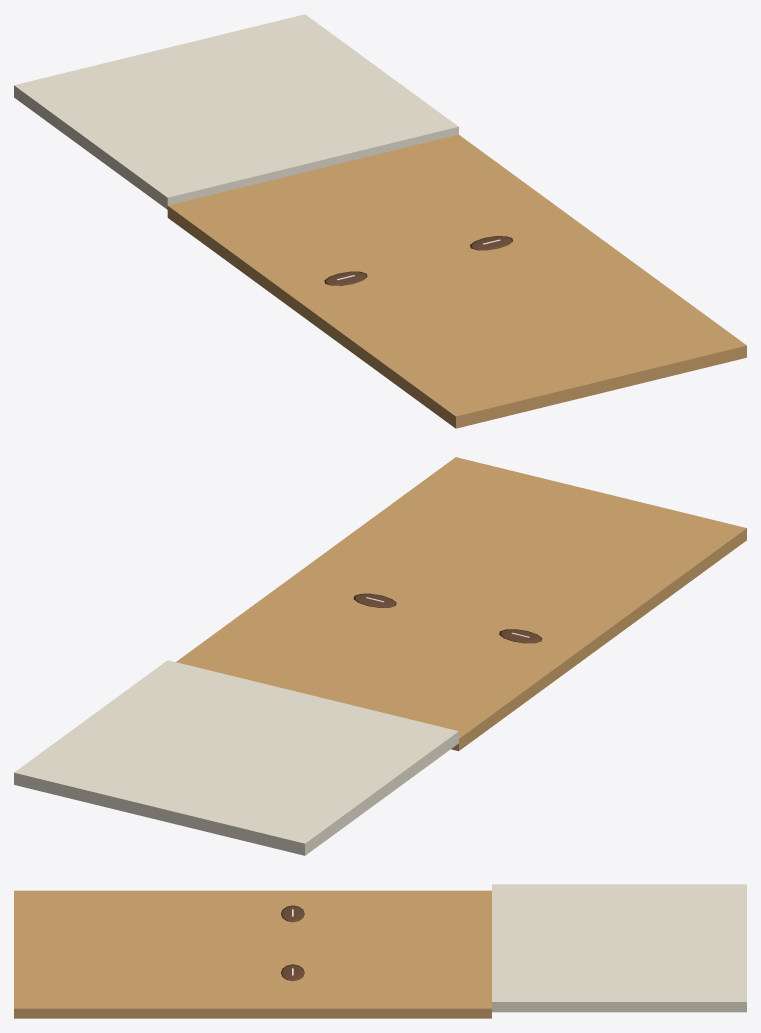
The model's file is orb4_ground_7m.glb.
The picture shows the model from 3 angles, top to bottom: view 1: azimuth 30°, elevation 25°; view 2: azimuth 150°, elevation 25°; view 3: azimuth 270°, elevation 25°; orthographic projection. The views are drawn at different scales.
Parts seen in each view (by area): view 1: orb4_ground_7m__orb3-brushed-brass, orb4_ground_7m__orb3-ivory-ceramic, orb4_ground_7m__orb3-roasted-coffee; view 2: orb4_ground_7m__orb3-brushed-brass, orb4_ground_7m__orb3-ivory-ceramic, orb4_ground_7m__orb3-roasted-coffee; view 3: orb4_ground_7m__orb3-brushed-brass, orb4_ground_7m__orb3-ivory-ceramic, orb4_ground_7m__orb3-roasted-coffee.
Part boxes in pixels (x1,y1,x2,y2): orb4_ground_7m__orb3-brushed-brass: (167,134,746,428); orb4_ground_7m__orb3-ivory-ceramic: (14,14,458,209); orb4_ground_7m__orb3-roasted-coffee: (324,236,512,285); orb4_ground_7m__orb3-brushed-brass: (176,457,746,751); orb4_ground_7m__orb3-ivory-ceramic: (14,660,458,855); orb4_ground_7m__orb3-roasted-coffee: (353,593,542,643); orb4_ground_7m__orb3-brushed-brass: (14,890,491,1018); orb4_ground_7m__orb3-ivory-ceramic: (492,884,746,1012); orb4_ground_7m__orb3-roasted-coffee: (281,905,304,980).
Size of the model in its own units: 7 by 0.46 by 18.4.
